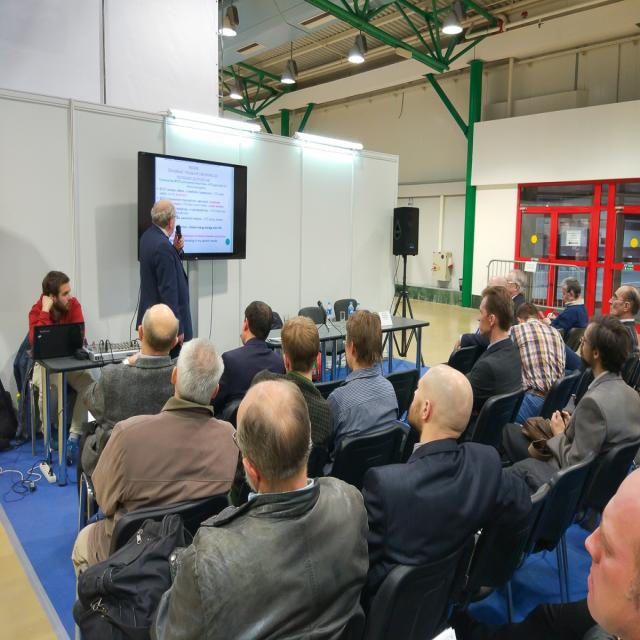body: (147, 375, 373, 640), (69, 336, 243, 582), (358, 362, 504, 616), (494, 312, 640, 472), (74, 301, 180, 515), (229, 315, 335, 508), (319, 307, 400, 479), (27, 269, 97, 467), (574, 466, 639, 640), (460, 284, 523, 444), (134, 198, 194, 361), (208, 300, 288, 418), (507, 299, 568, 430), (564, 283, 640, 378), (452, 274, 509, 352), (542, 276, 588, 341), (503, 266, 531, 326)
